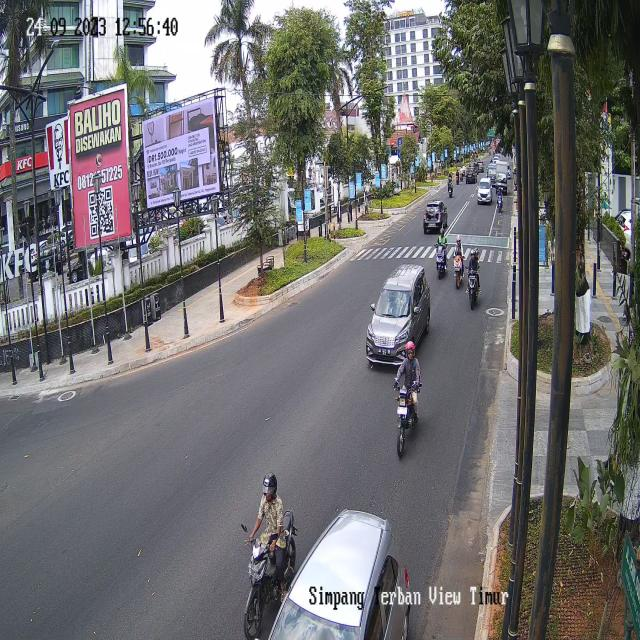car: (265, 502, 414, 640), (366, 262, 432, 368), (423, 199, 448, 232)
motorcycle: (240, 468, 297, 640), (393, 338, 423, 458), (464, 247, 482, 309), (452, 236, 466, 287), (436, 227, 448, 277)
